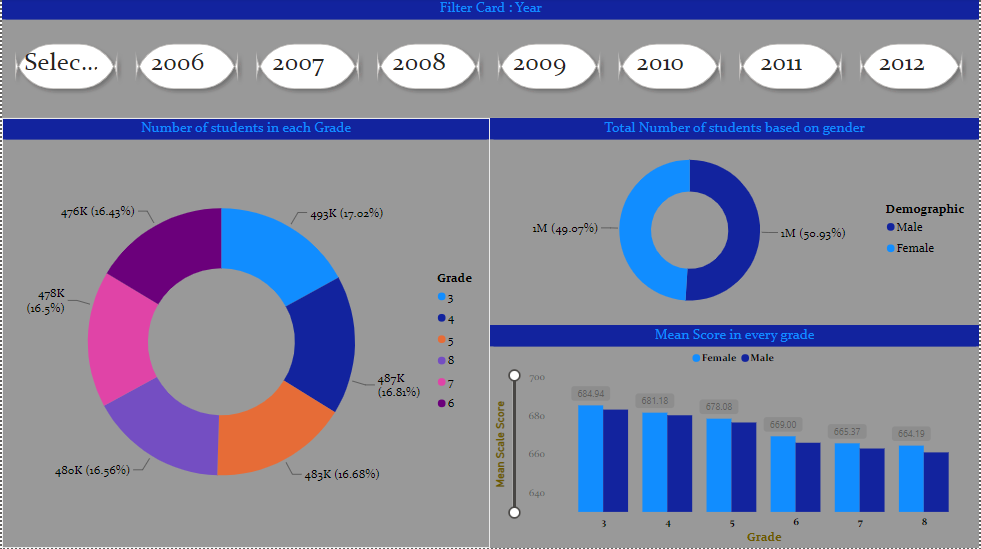

Layout of this report page (visuals, bound fields, positions):
{"tool":"powerbi","page":{"name":"Page 2","canvas":[1280,720],"ordinal":1},"visuals":[{"type":"donutChart","title":"Number of students in each Grade","fields":{"Category":["dataset_allgrade_no (2).Grade"],"Y":["Sum(dataset_allgrade_no (2).Number Tested)"]},"box":[0,157,639.4,563],"z":0},{"type":"advancedSlicerVisual","title":"Filter Card : Year","fields":{"Values":["dataset_allgrade_no (2).Year"]},"box":[0,0,1280.2,157],"z":1000},{"type":"donutChart","title":"Total Number of students  based on gender","fields":{"Category":["dataset_allgrade_no (2).Demographic"],"Y":["Sum(dataset_allgrade_no (2).Number Tested)"]},"box":[639.4,157,640.8,270.7],"z":2000},{"type":"clusteredColumnChart","title":"Mean Score in every grade","fields":{"Category":["dataset_allgrade_no (2).Grade"],"Y":["Avg(dataset_allgrade_no (2).Mean Scale Score)"],"Series":["dataset_allgrade_no (2).Demographic"]},"box":[639,428,641,292],"z":3000}]}

Visuals, with their boxes in screenshot pixels (x1, y1, x2, y2), scaled from the page's 1280x720 canvas onto the 981x549 screenshot:
"Number of students in each Grade" donutChart: x1=0 y1=120 x2=490 y2=548
"Filter Card : Year" advancedSlicerVisual: x1=0 y1=0 x2=980 y2=120
"Total Number of students  based on gender" donutChart: x1=490 y1=120 x2=980 y2=326
"Mean Score in every grade" clusteredColumnChart: x1=490 y1=326 x2=980 y2=548
